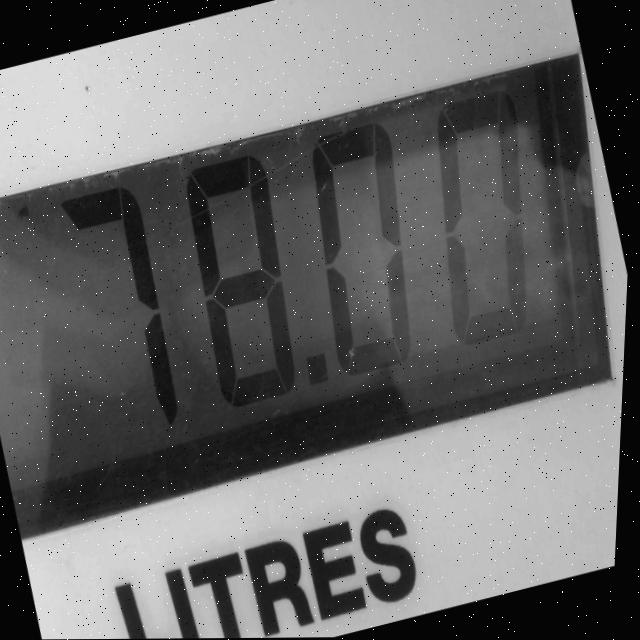.: (294, 330, 351, 412)
0: (394, 72, 582, 392), (35, 170, 224, 480), (279, 115, 457, 405)
8: (156, 142, 333, 426)
